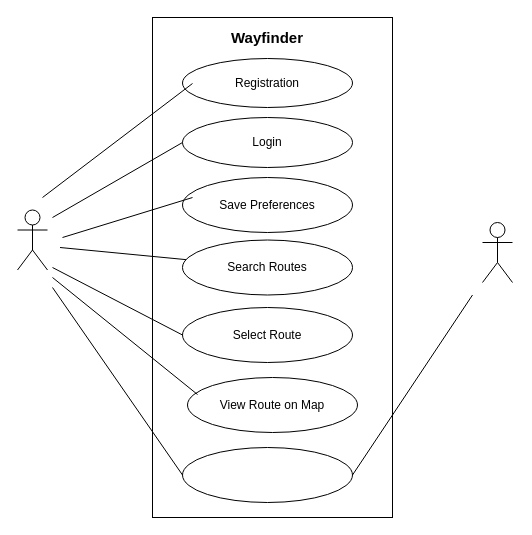
This 532x535 diagram has some shape labels left out. Here are the shapes that lost their labels. From the top down, the centre of each, then its label:
the point at 32,239: User
the point at 497,252: Admin
the point at 267,474: Emergency Notification
